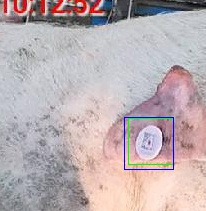text: (128, 118, 173, 164)
